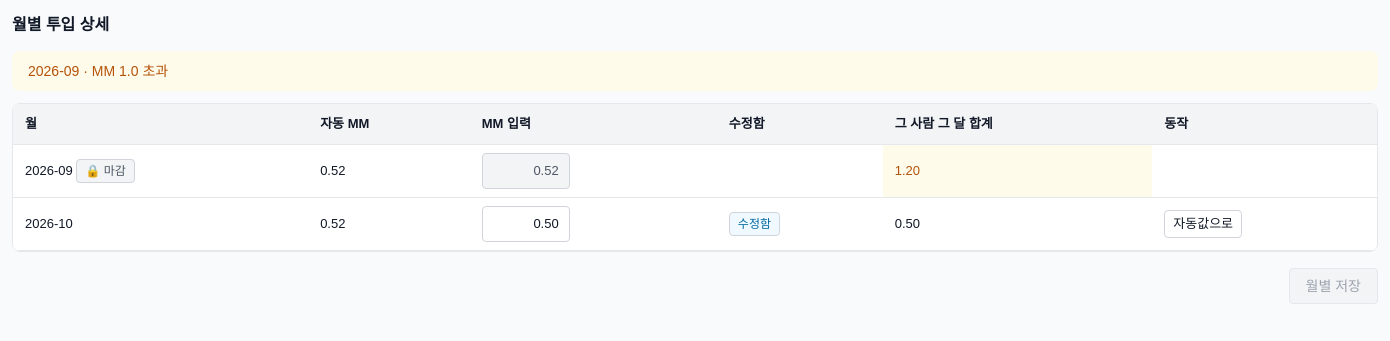
Test: assignment monthly MM › rejects invalid MM  without sending
Clear the field named "2026-10 MM" at (526, 224), box x1=482 y1=206 x2=570 y2=242
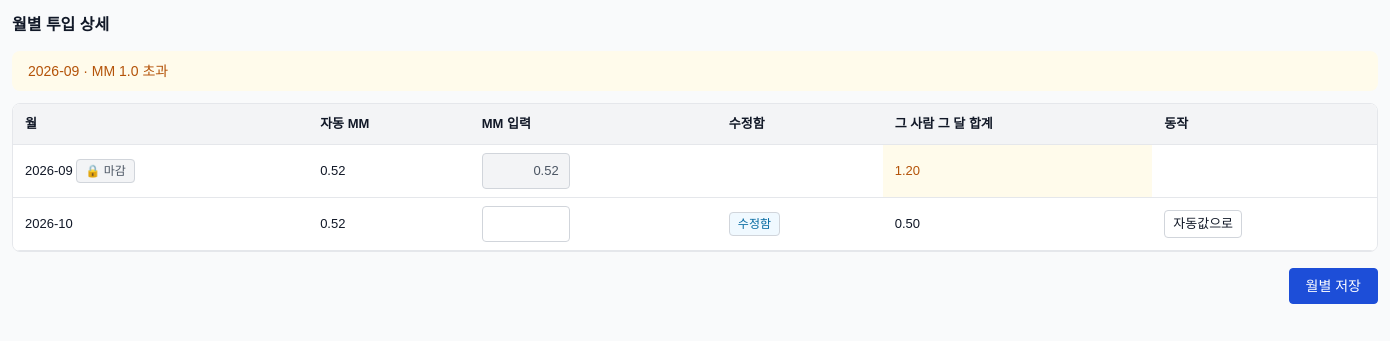
Click the button "월별 저장" at (1333, 286), box x1=1289 y1=268 x2=1378 y2=304
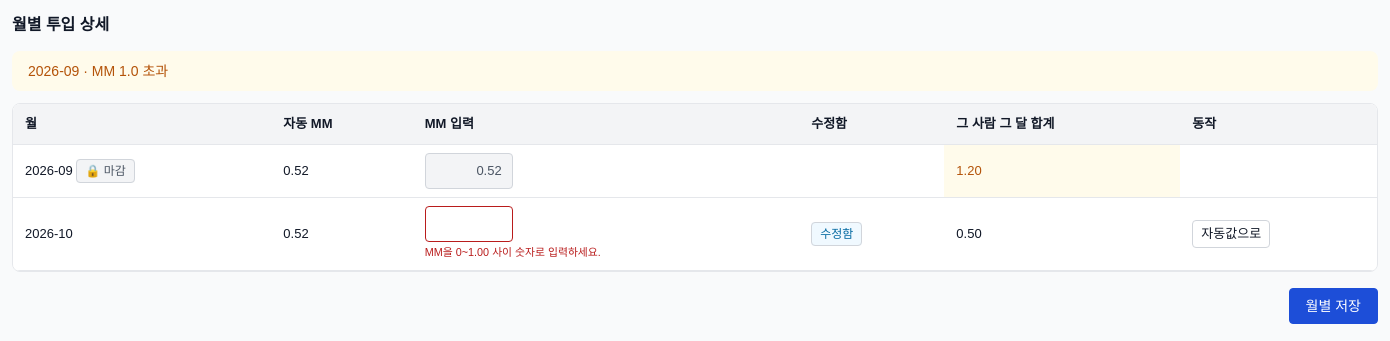
Expected: the text "MM을 0~1.00 사이 숫자로 입력하세요." is shown, x1=425 y1=246 x2=601 y2=258
